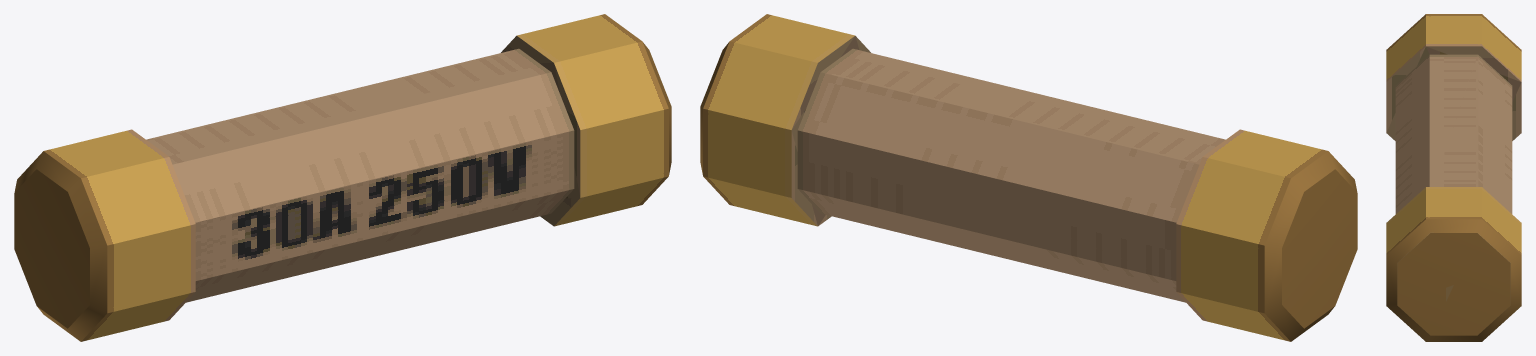
The model's file is psx_fuse.glb.
The picture shows the model from 3 angles, left to right: view 1: azimuth 30°, elevation 25°; view 2: azimuth 150°, elevation 25°; view 3: azimuth 270°, elevation 25°; orthographic projection. The views are drawn at different scales.
Parts seen in each view (by area): view 1: cartridge_fuse; view 2: cartridge_fuse; view 3: cartridge_fuse.
Part boxes in pixels (x1,y1,x2,y2): cartridge_fuse: (14, 14, 671, 341); cartridge_fuse: (700, 14, 1357, 341); cartridge_fuse: (1386, 14, 1521, 341).
Size of the model in its own units: 0.076 by 0.0203 by 0.0203.
Materials: 1 (1 with a texture image).
